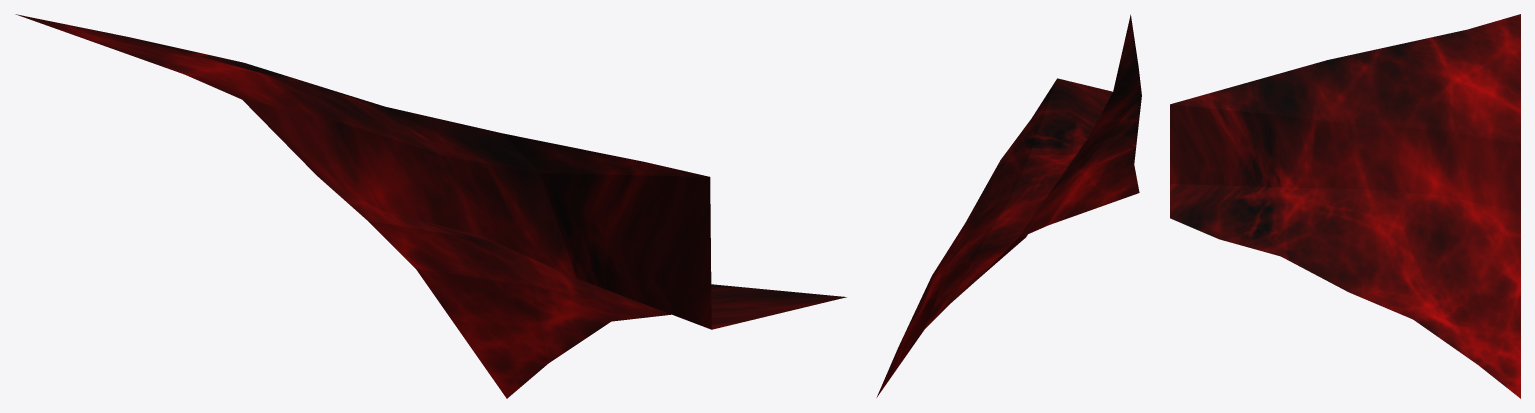
The model's file is Cobweb1.fbx.
The picture shows the model from 3 angles, left to right: view 1: azimuth 30°, elevation 25°; view 2: azimuth 150°, elevation 25°; view 3: azimuth 270°, elevation 25°; orthographic projection. The views are drawn at different scales.
Visible parts, largest first — view 1: Cobweb1; view 2: Cobweb1; view 3: Cobweb1.
Part boxes in pixels (left/top/right/bottom): Cobweb1: left=15, top=14, right=846, bottom=398; Cobweb1: left=876, top=14, right=1141, bottom=397; Cobweb1: left=1170, top=14, right=1520, bottom=398.
Bounding box in the file's own units: 368 × 360 × 438.
Materials: 1 (1 with a texture image).
